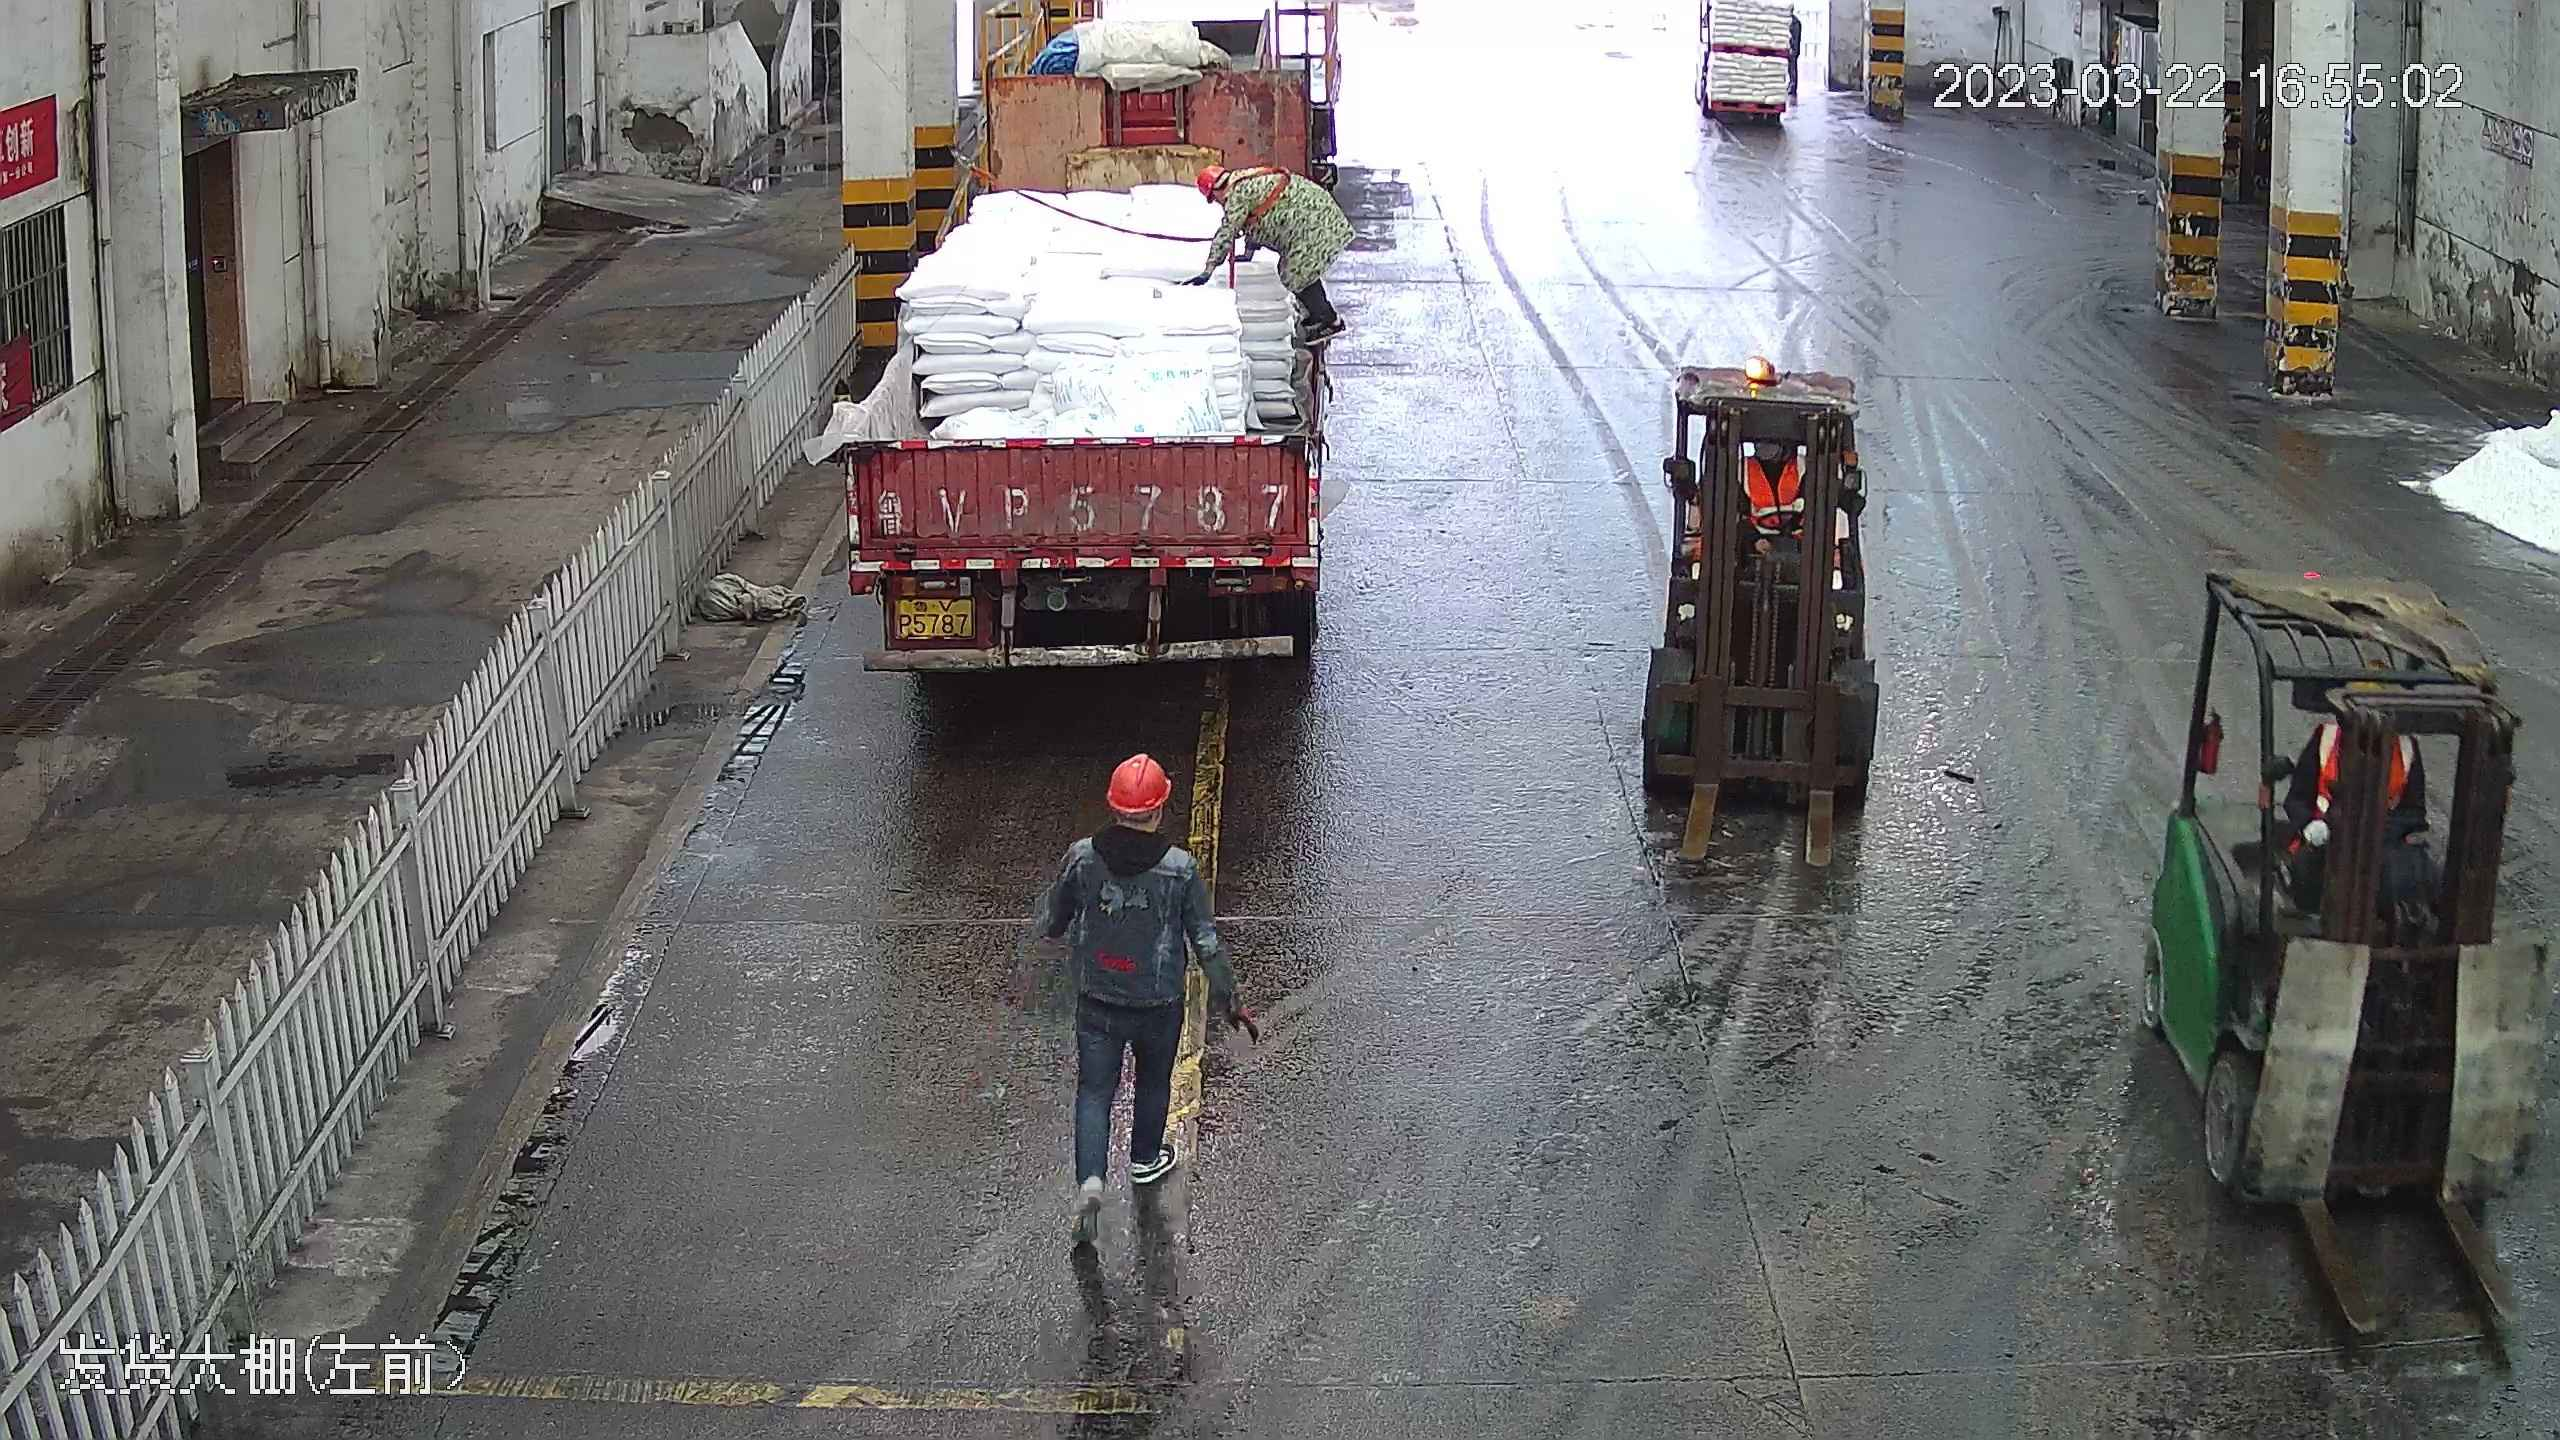belt: (1233, 160, 1298, 236)
head: (1054, 750, 1199, 905)
helmet: (1103, 751, 1174, 812)
people: (1043, 751, 1211, 1196), (1188, 154, 1347, 434)
truck: (836, 19, 1349, 679)
